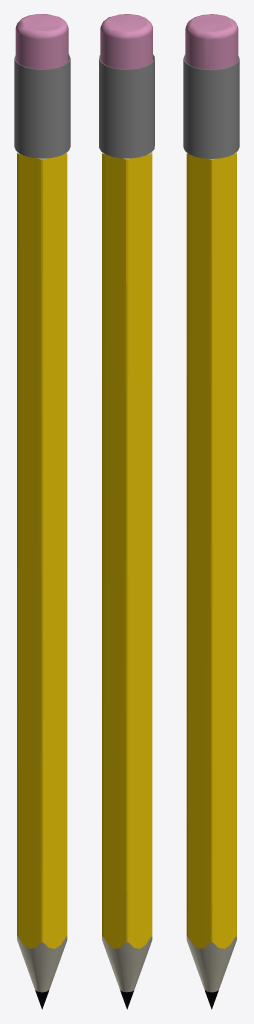
The model's file is Pencil.fbx.
3 views of the same model, side by side, from view 1: azimuth 90°, elevation 25°; view 2: azimuth 150°, elevation 25°; view 3: azimuth 270°, elevation 25° (orthographic).
Parts seen in each view (by area): view 1: Circle01, pCylinder1, Cylinder01; view 2: Circle01, pCylinder1, Cylinder01; view 3: Circle01, pCylinder1, Cylinder01.
Boxes of the visible parts, x1,y1,x2,y2 form: Circle01: (17,152,67,992); pCylinder1: (14,54,70,158); Cylinder01: (15,14,68,69); Circle01: (102,152,152,992); pCylinder1: (99,54,154,158); Cylinder01: (100,14,152,69); Circle01: (186,152,236,992); pCylinder1: (183,54,239,158); Cylinder01: (185,14,238,69).
Size of the model in its own units: 83.67 by 1595 by 82.22.
